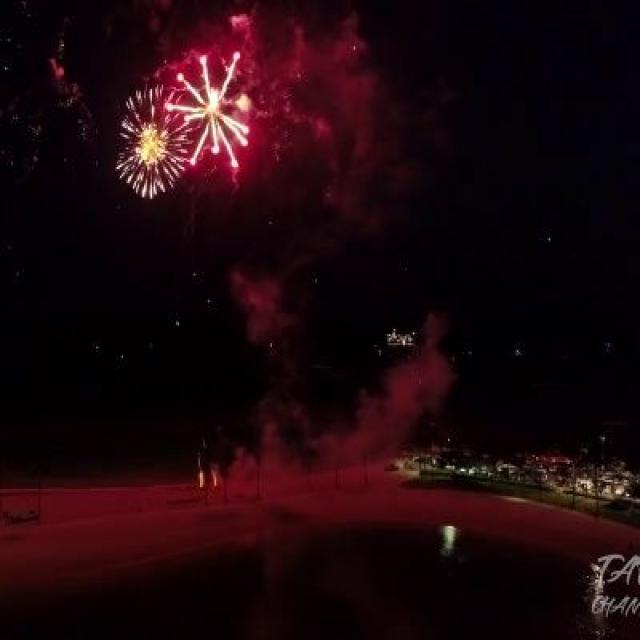Smoke: (342, 64, 448, 233), (329, 332, 450, 467), (229, 266, 300, 346), (247, 391, 300, 481)
